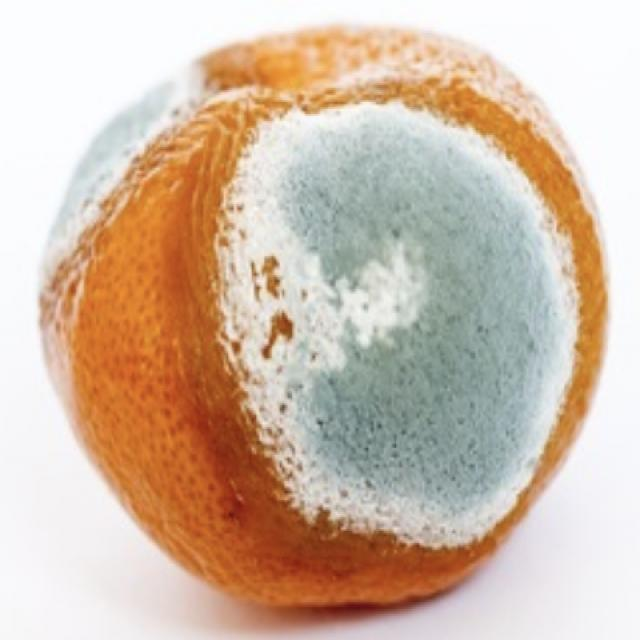rotten-orange: (39, 16, 611, 610)
